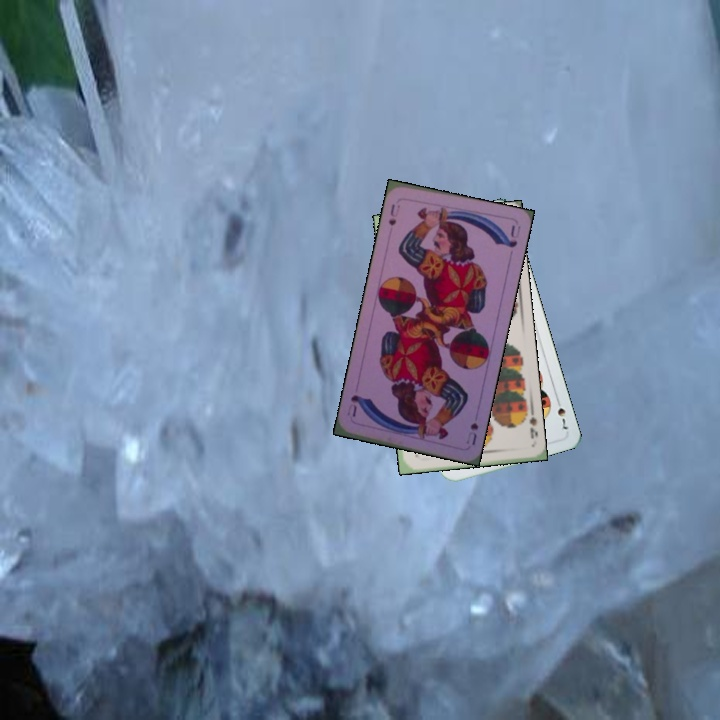S7: (552, 394, 570, 432)
S9: (518, 404, 540, 441)
SU: (462, 418, 481, 448), (384, 200, 403, 228)
